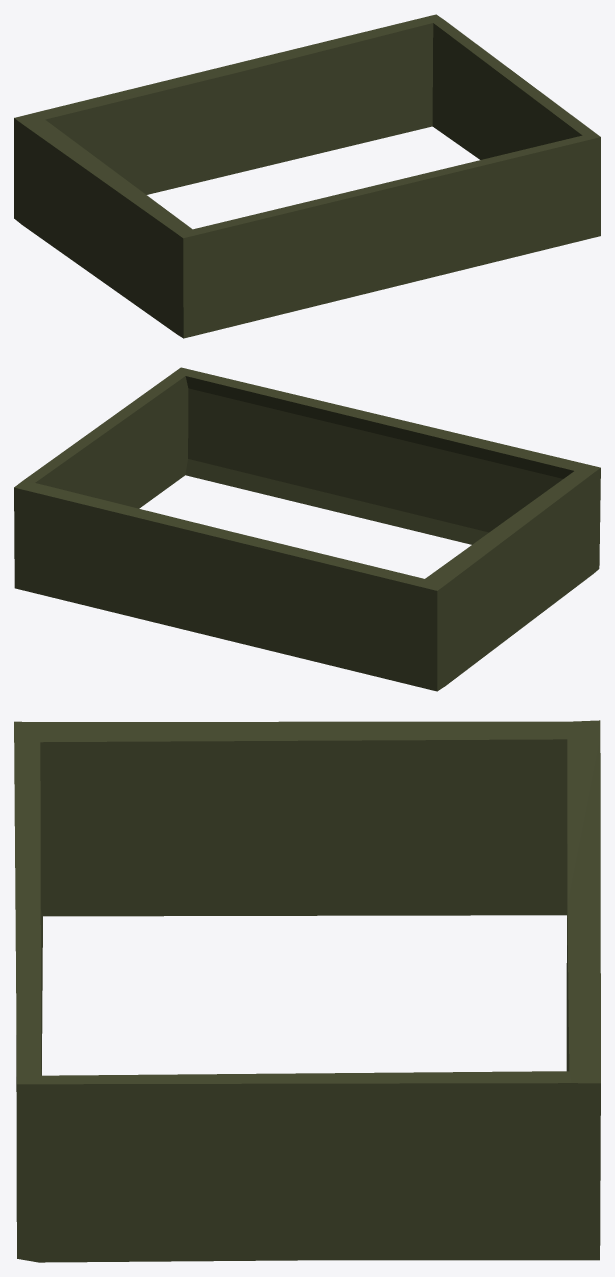
File: Outerwall collider.fbx
3 renders of one model, top to bottom at view 1: azimuth 30°, elevation 25°; view 2: azimuth 150°, elevation 25°; view 3: azimuth 270°, elevation 25°, orthographic. The views are drawn at different scales.
Visible parts, largest first — view 1: OUTERWALL collider; view 2: OUTERWALL collider; view 3: OUTERWALL collider.
Part boxes in pixels (box(x1,y1,x2,y2)): OUTERWALL collider: box(14, 14, 600, 338); OUTERWALL collider: box(14, 367, 600, 691); OUTERWALL collider: box(14, 720, 600, 1262).
Size of the model in its own units: 6466 by 4408 by 1498.
